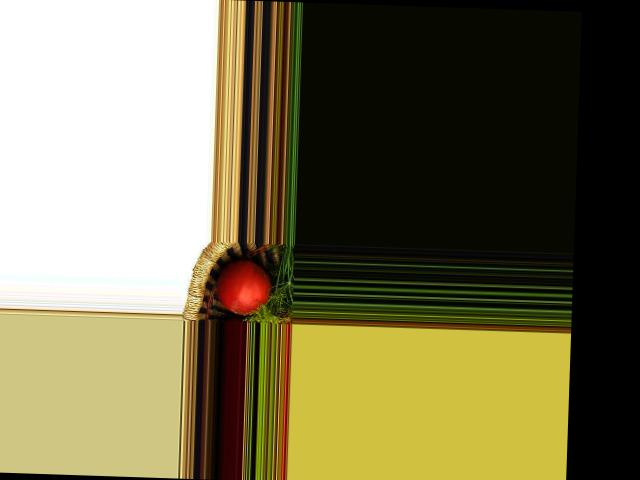tomato: (215, 259, 273, 315)
